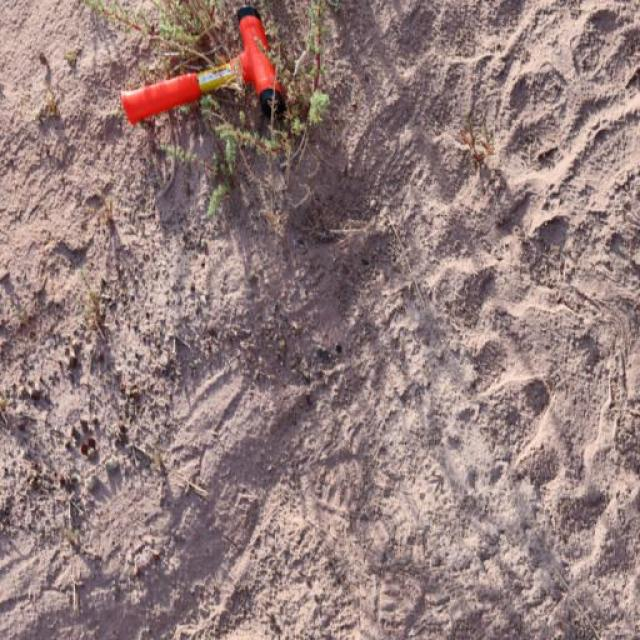mallet: (118, 2, 286, 126)
